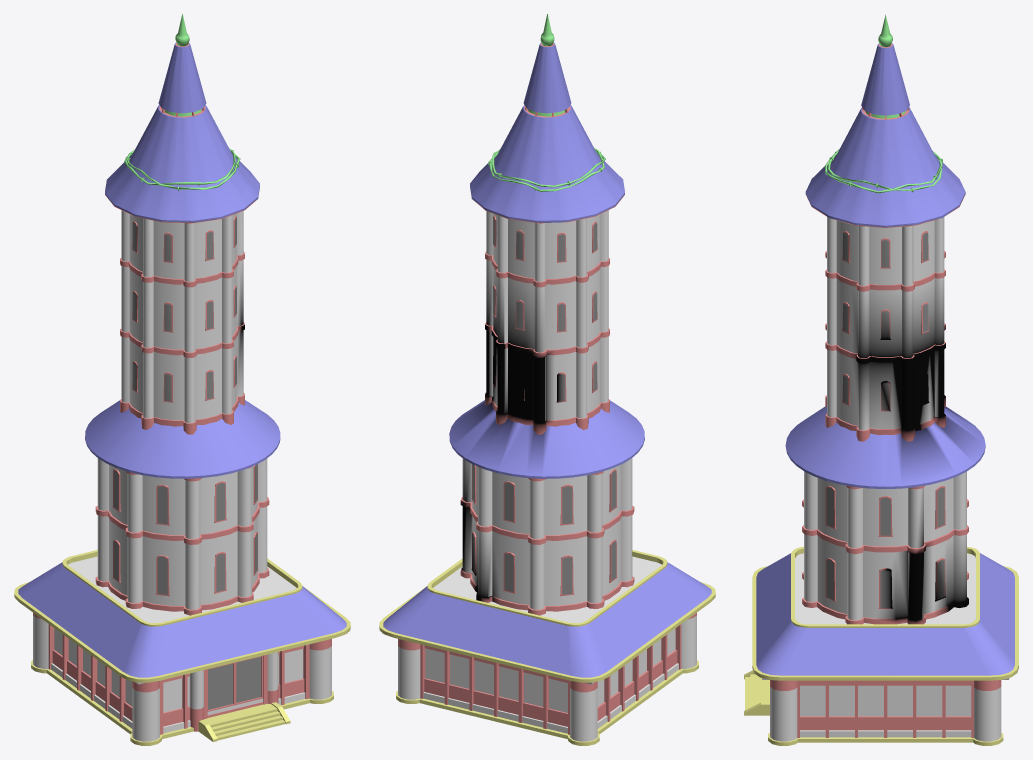
File: SM_ENV_KNVLLG03_AreaA_Building_D.gltf
3 views of the same model, side by side, from view 1: azimuth 30°, elevation 25°; view 2: azimuth 150°, elevation 25°; view 3: azimuth 270°, elevation 25° (orthographic). The views are drawn at different scales.
Visible parts, largest first — view 1: SM_ENV_KNVLLG03_AreaA_Building_D; view 2: SM_ENV_KNVLLG03_AreaA_Building_D; view 3: SM_ENV_KNVLLG03_AreaA_Building_D.
Boxes of the visible parts, box(x1,y1,x2,y2) form: SM_ENV_KNVLLG03_AreaA_Building_D: box(14, 14, 350, 745); SM_ENV_KNVLLG03_AreaA_Building_D: box(379, 14, 715, 745); SM_ENV_KNVLLG03_AreaA_Building_D: box(744, 14, 1018, 745).
Bounding box in the file's own units: 20.1 × 56.73 × 20.72.
